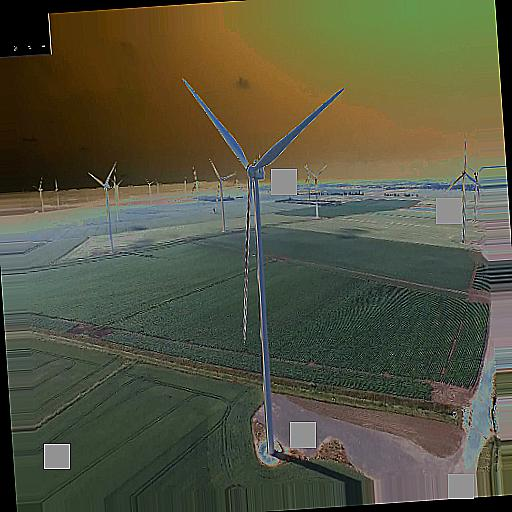wind turbine: (181, 75, 353, 452), (447, 135, 481, 239), (88, 159, 118, 255), (209, 156, 237, 230)
